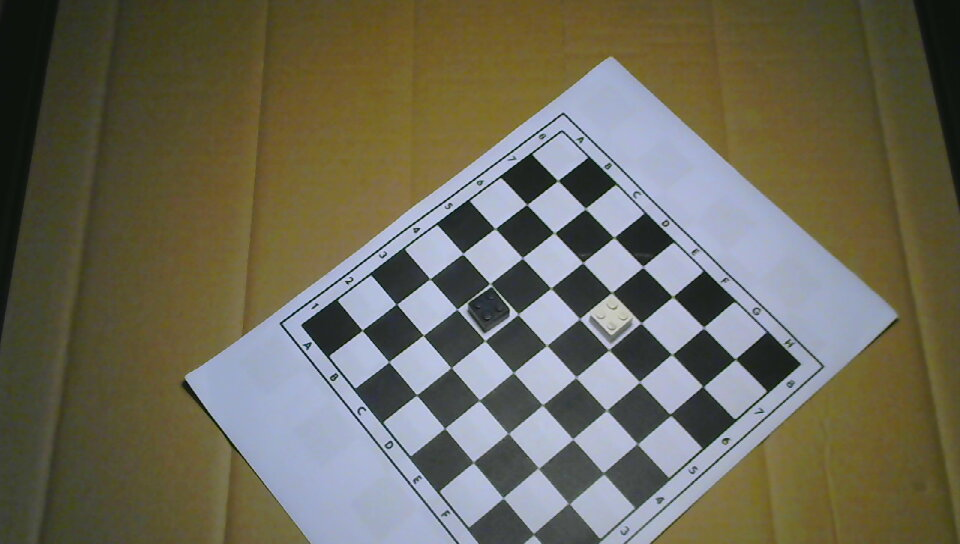bp: (466, 286, 509, 333)
wp: (586, 296, 633, 341)
